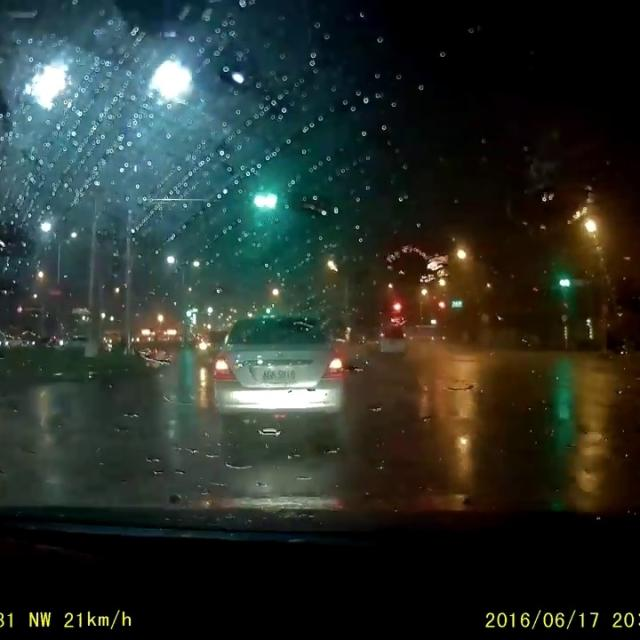Car: (207, 315, 345, 430), (376, 327, 411, 354)
